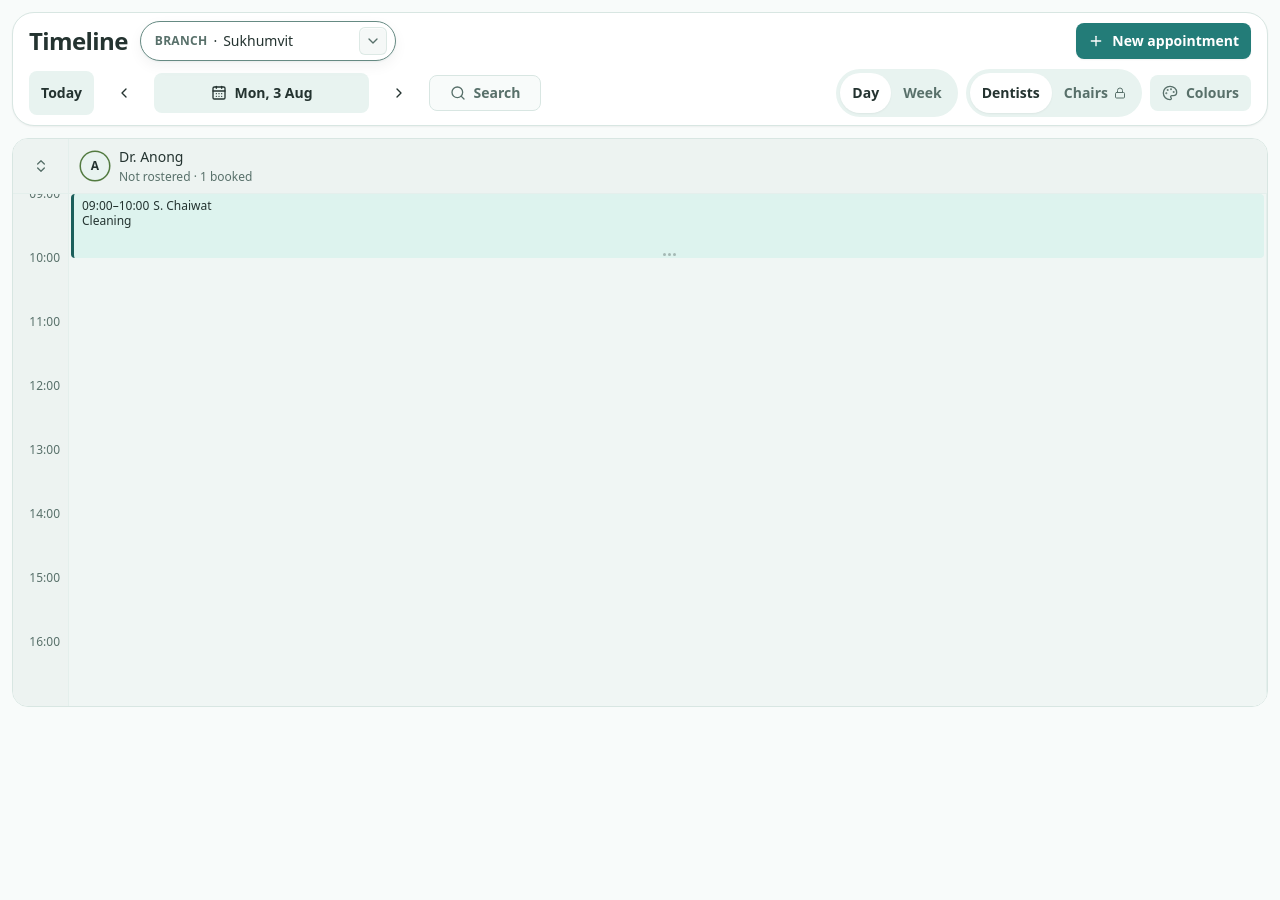
Test case: TimelinePage › stacks cards above the drag overlay so a card press never starts a drag
Press the mouse on the button with test id "appt-a1000000-0000-4000-8000-000000000006" at (116, 206), box x1=71 y1=194 x2=1264 y2=258
Click the button with test id "appt-a1000000-0000-4000-8000-000000000006" at (116, 206), box x1=71 y1=194 x2=1264 y2=258
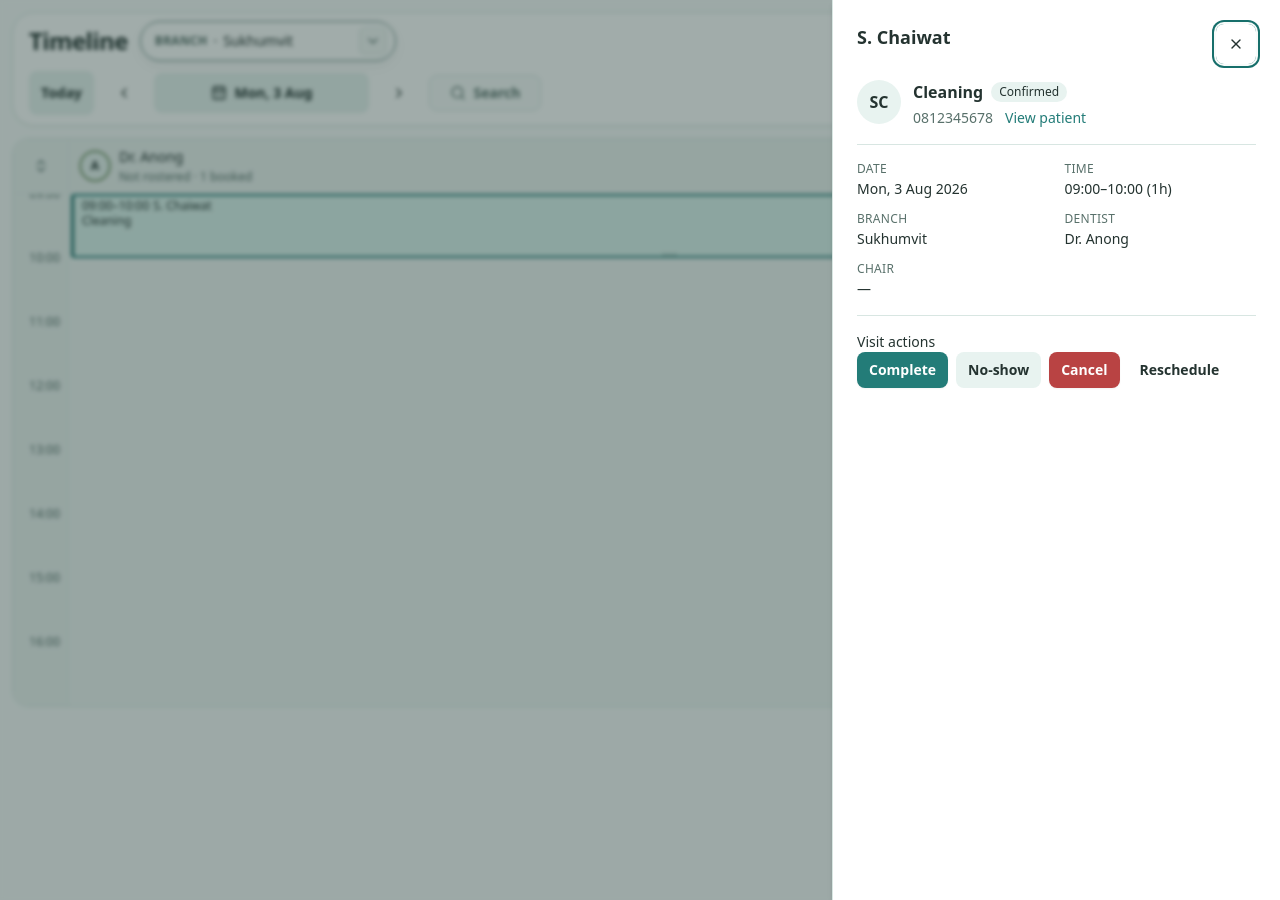
Expected: the dialog shows "Cleaning", x1=913 y1=81 x2=983 y2=103
